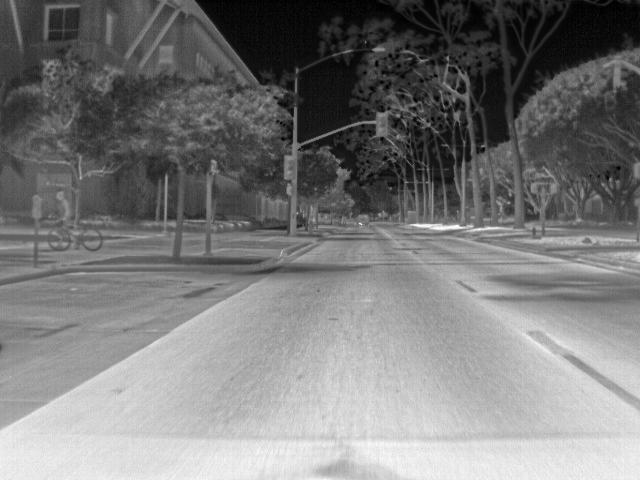car: (355, 213, 372, 226)
person: (52, 189, 70, 223)
